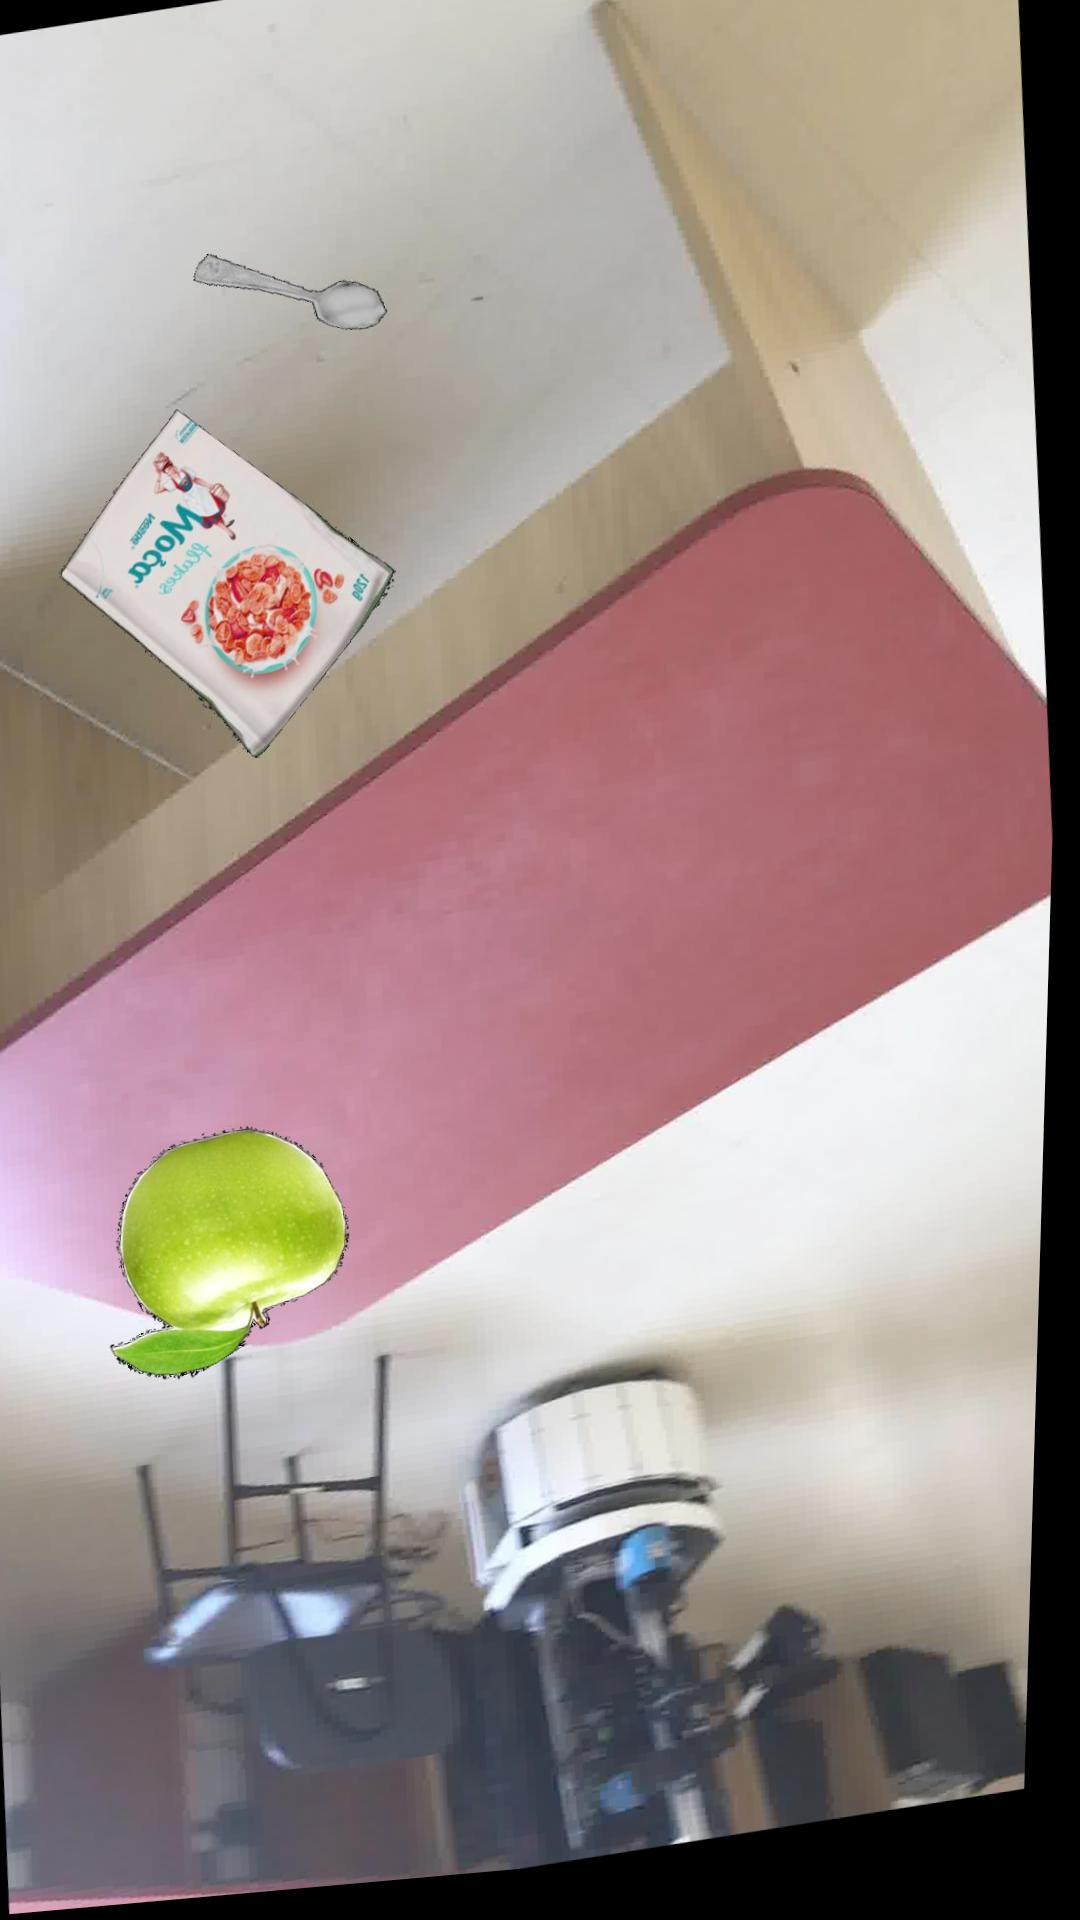corn flakes: (62, 414, 397, 765)
green apple: (117, 1134, 355, 1385)
spoon: (194, 260, 388, 338)
